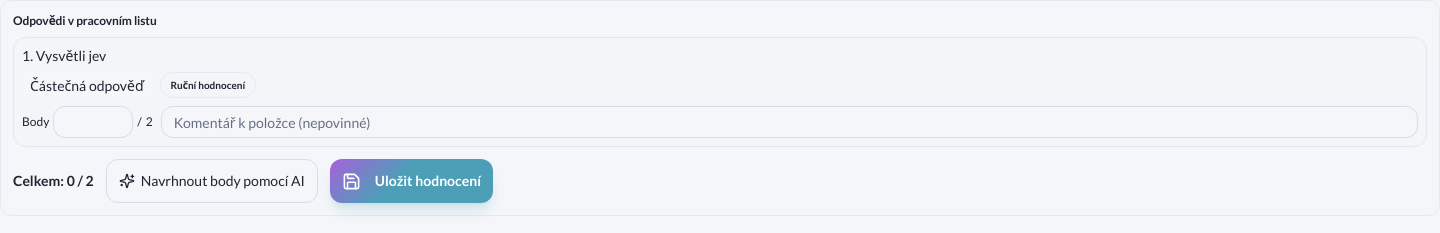
Test: AI návrh bodů pracovního listu › předvyplní body a zdůvodnění, ale bez Uložit nic neodešle
Later steps or results of the test are not shown.
Step 1. Click the button "Navrhnout body pomocí AI" → x=212, y=181, box [106,159,318,203]
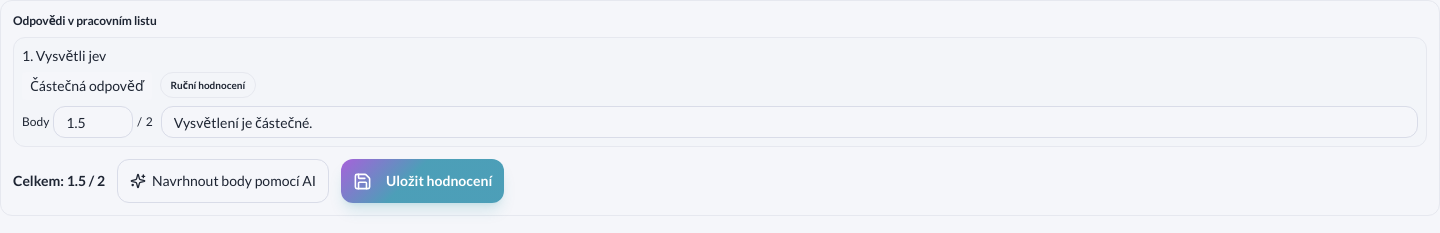
Expected: the number field named "Body za položku 1" holds "1.5", [53,106,133,138]
Expected: the field named "Komentář k položce 1" holds "Vysvětlení je částečné.", [161,106,1418,138]
